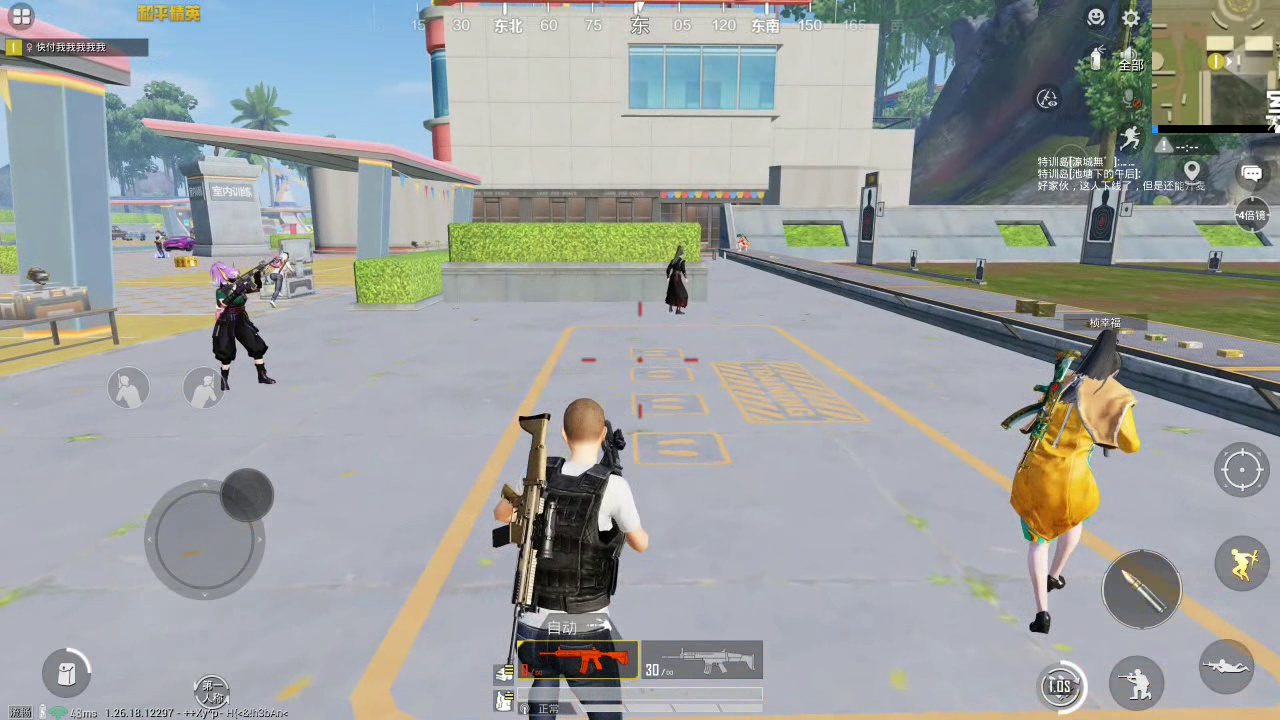enemy: (1015, 326, 1136, 631), (213, 256, 282, 389), (666, 246, 692, 315), (269, 252, 293, 303), (153, 227, 166, 256), (733, 228, 747, 254)
